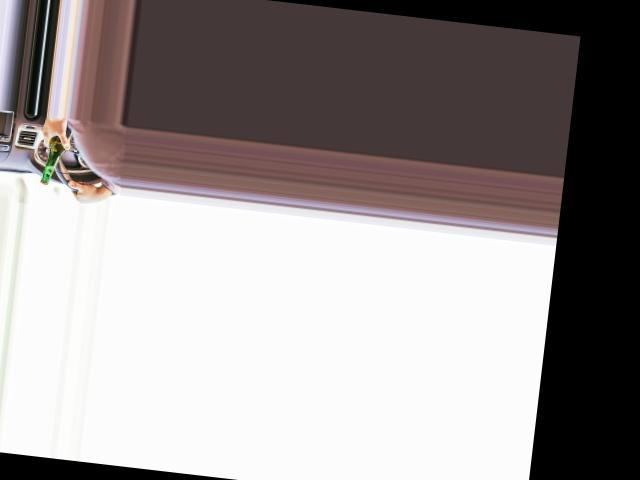beer: (39, 117, 75, 187)
